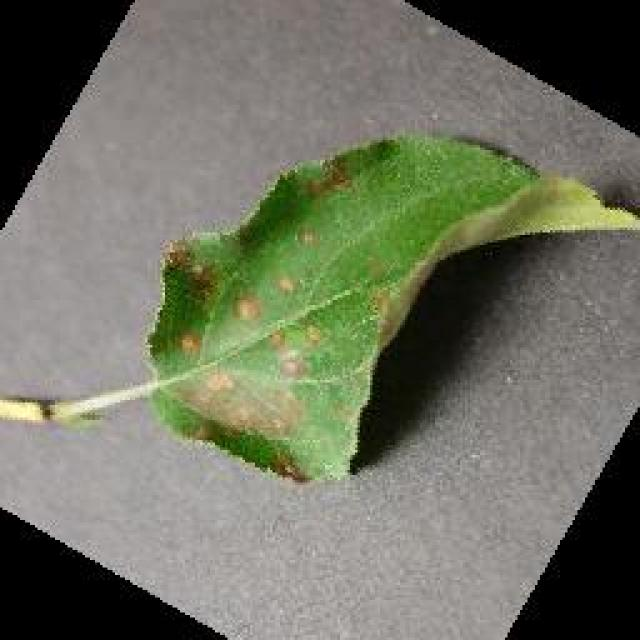apple healthy: (140, 130, 638, 485)
